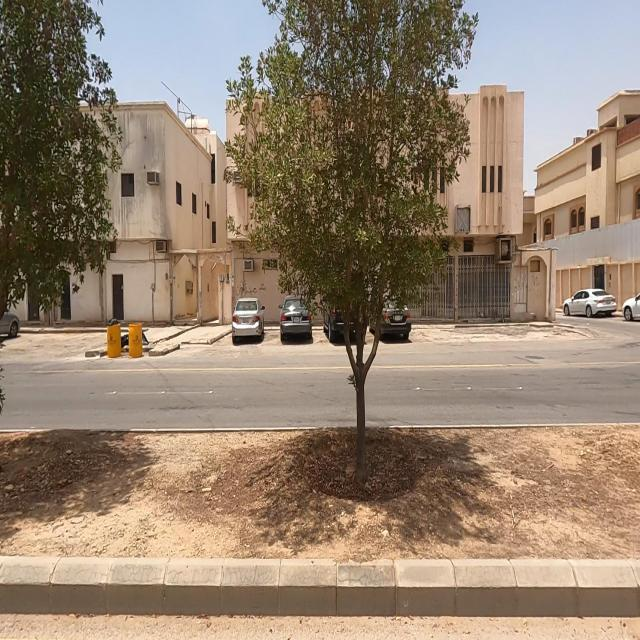Graffiti: (245, 280, 267, 298), (237, 286, 242, 299)
